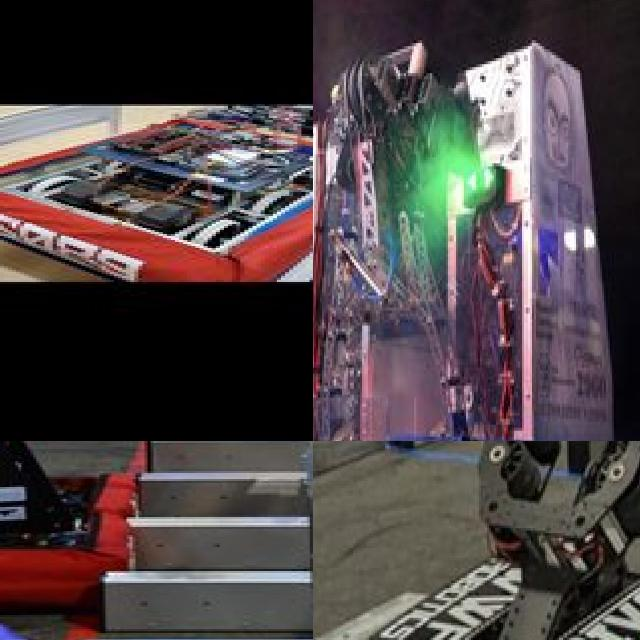FRC-Robots: (313, 0, 640, 441), (0, 70, 313, 288), (319, 441, 640, 640), (0, 441, 313, 614)
